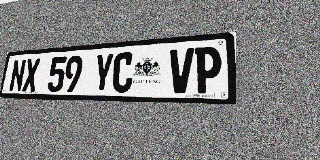5: (47, 56, 67, 92)
9: (63, 55, 84, 92)
C: (111, 52, 134, 93)
N: (9, 59, 27, 92)
P: (194, 46, 221, 93)
V: (168, 48, 194, 93)
X: (22, 58, 40, 92)
Y: (92, 53, 114, 93)
